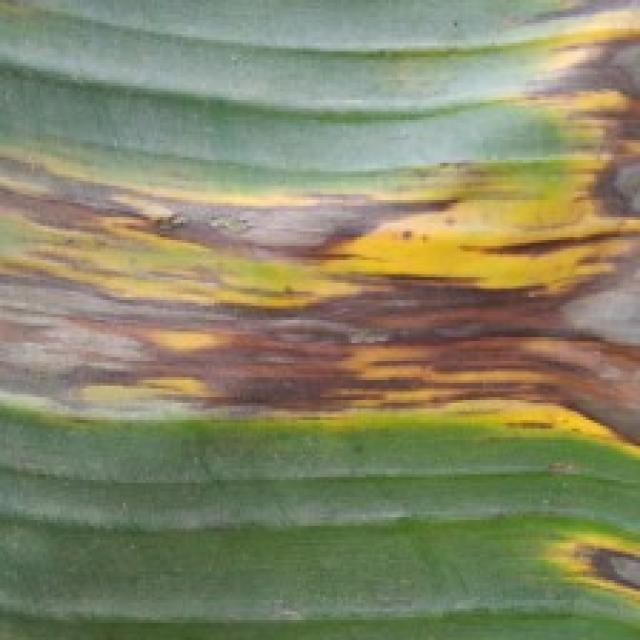Early_leaf_spot: (0, 129, 640, 450), (500, 0, 640, 144), (528, 508, 640, 611)
